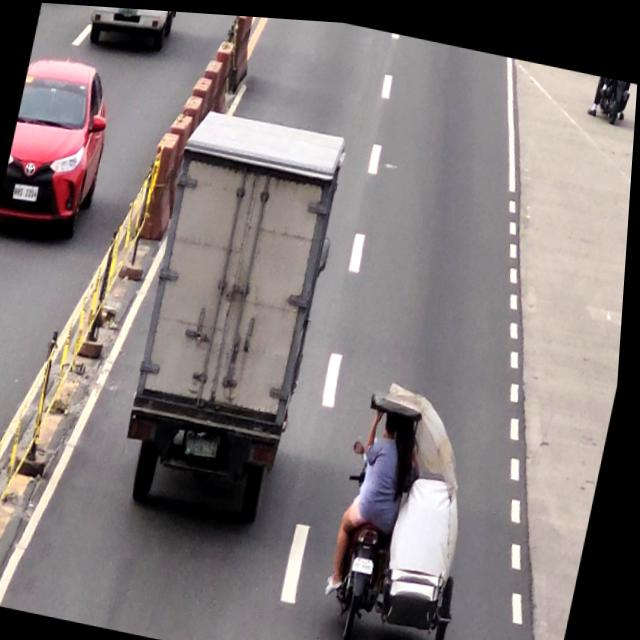License-Plate: (188, 427, 226, 459)
Tricycle: (332, 384, 500, 640)
Truck: (115, 102, 343, 531)
